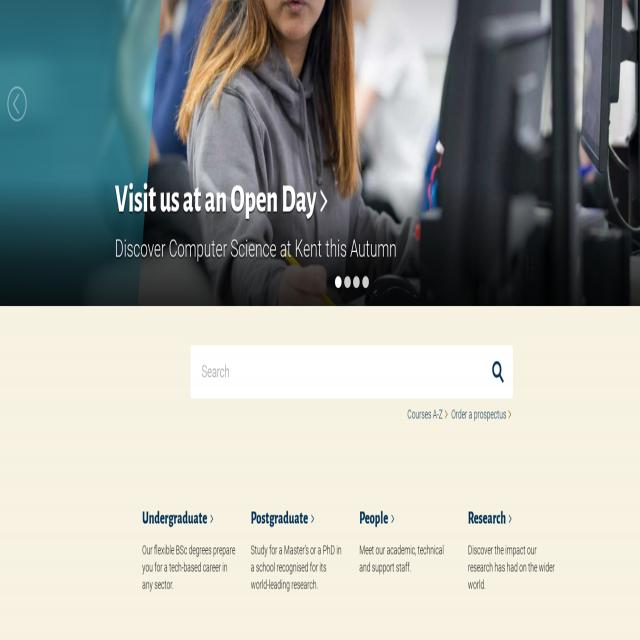button: (483, 346, 512, 398), (7, 86, 27, 122), (335, 276, 342, 287), (344, 276, 351, 287), (353, 276, 360, 287), (362, 276, 369, 287)
field: (190, 346, 484, 398)
